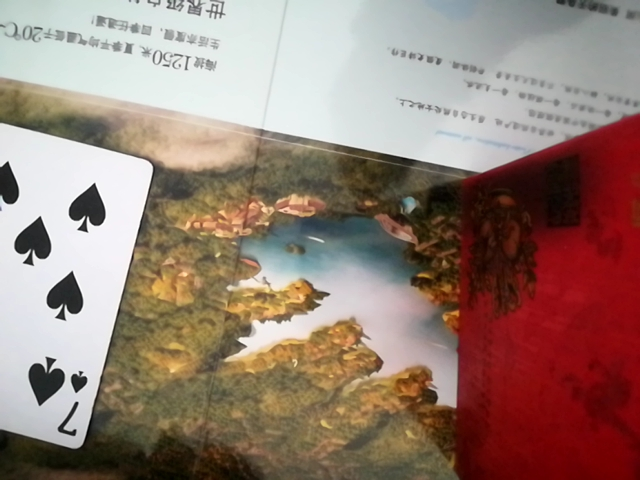ht 7: (1, 91, 151, 456)
